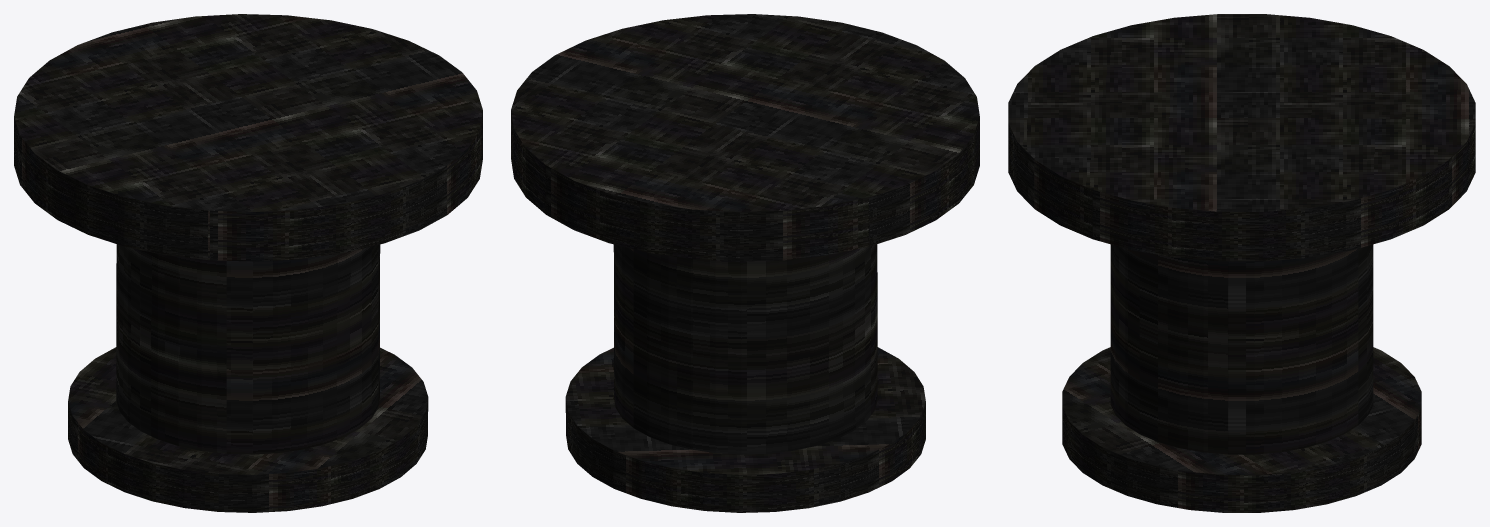
The model's file is presentoire.glb.
The picture shows the model from 3 angles, left to right: view 1: azimuth 30°, elevation 25°; view 2: azimuth 150°, elevation 25°; view 3: azimuth 270°, elevation 25°; orthographic projection.
Parts seen in each view (by area): view 1: presentoire; view 2: presentoire; view 3: presentoire.
Part boxes in pixels (<box>): presentoire: <box>14,14,482,512</box>; presentoire: <box>511,14,979,512</box>; presentoire: <box>1008,14,1475,512</box>.
Size of the model in its own units: 2.73 by 2.09 by 2.73.
1 material, 1 textured.
